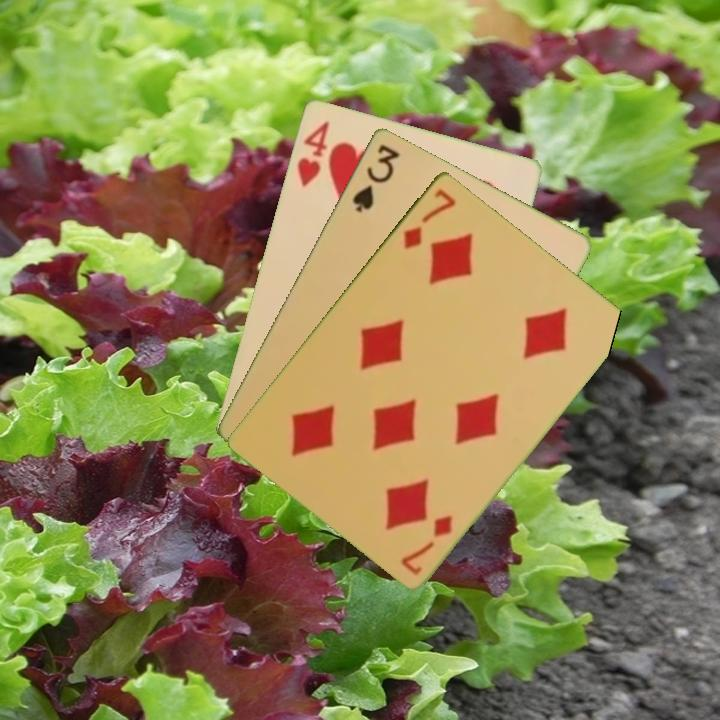3s: (348, 140, 402, 215)
4h: (293, 116, 332, 190)
7d: (399, 184, 459, 252), (397, 511, 456, 578)
